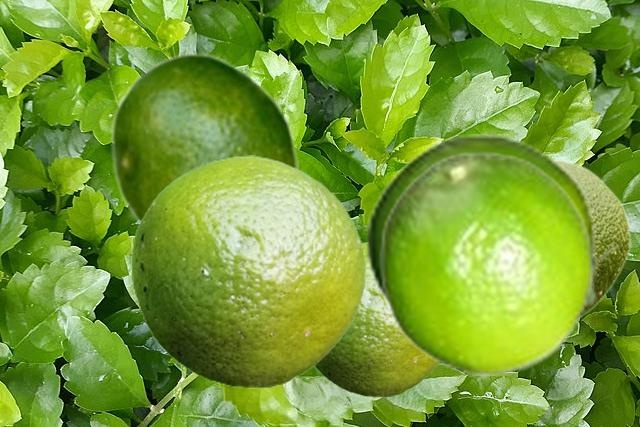calamansi: (131, 155, 364, 387), (379, 150, 594, 374), (364, 134, 623, 317), (109, 51, 299, 223), (313, 242, 439, 396), (556, 158, 630, 316)
